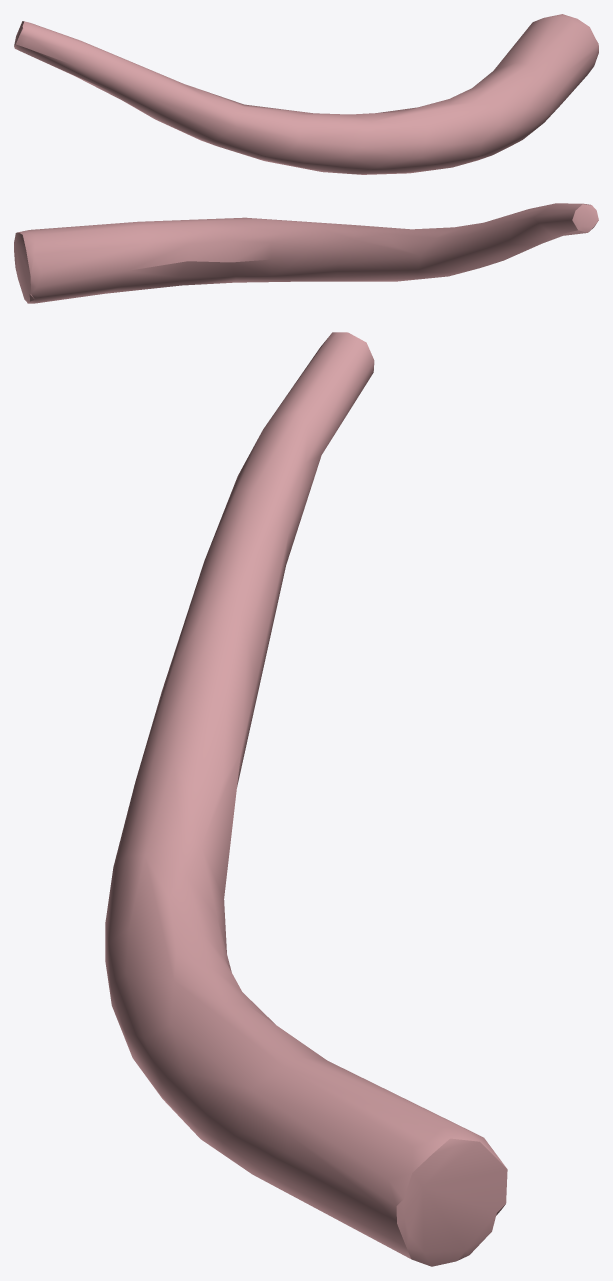
The model's file is fma68212_fj6541.glb.
3 views of the same model, one above another, from view 1: azimuth 30°, elevation 25°; view 2: azimuth 150°, elevation 25°; view 3: azimuth 270°, elevation 25° (orthographic). The views are drawn at different scales.
Visible parts, largest first — view 1: FMA68212_FJ6541; view 2: FMA68212_FJ6541; view 3: FMA68212_FJ6541.
Part boxes in pixels (x1=…): FMA68212_FJ6541: x1=14, y1=14, x2=598, y2=174; FMA68212_FJ6541: x1=14, y1=203, x2=598, y2=303; FMA68212_FJ6541: x1=105, y1=332, x2=507, y2=1266.
Bounding box in the file's own units: 0.0623 × 0.0216 × 0.0191.
